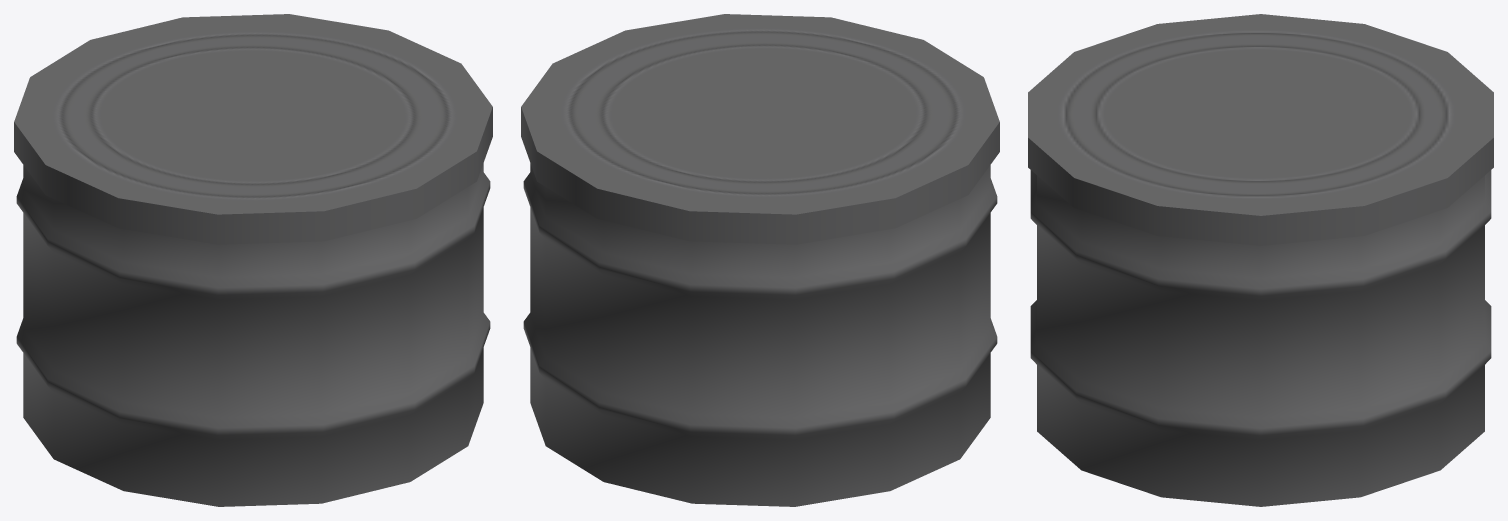
File: instrument box2.FBX
3 views of the same model, side by side, from view 1: azimuth 30°, elevation 25°; view 2: azimuth 150°, elevation 25°; view 3: azimuth 270°, elevation 25° (orthographic).
Parts seen in each view (by area): view 1: instrument box2; view 2: instrument box2; view 3: instrument box2.
Part boxes in pixels (x1=…): instrument box2: x1=14, y1=14, x2=492, y2=506; instrument box2: x1=521, y1=14, x2=999, y2=506; instrument box2: x1=1028, y1=14, x2=1493, y2=506.
Bounding box in the file's own units: 11.81 × 11.51 × 8.04.
